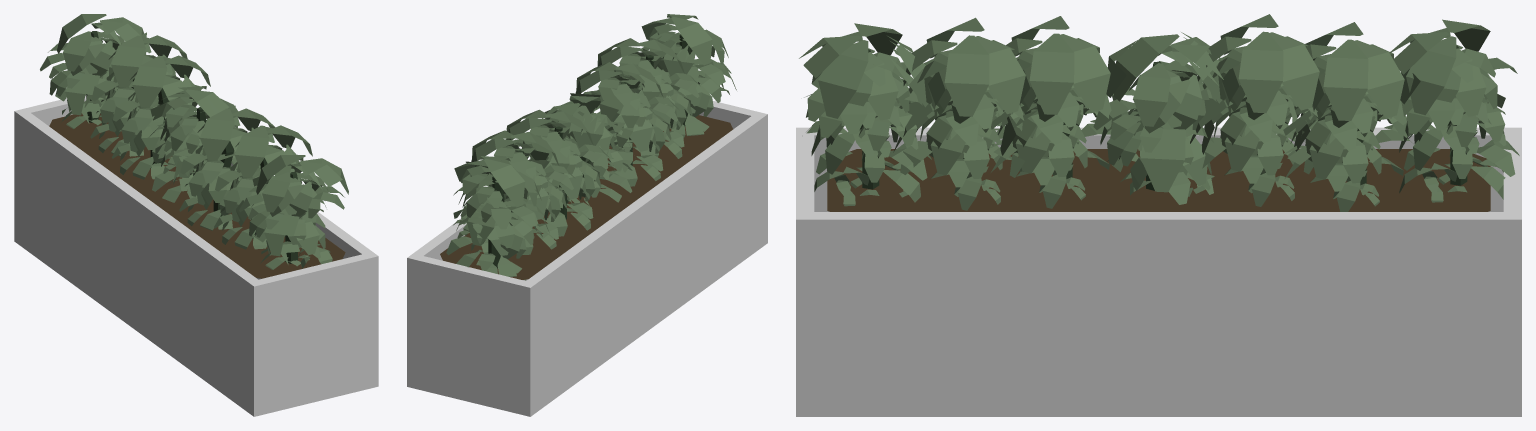
The model's file is saksi_bitkili_100x30x30.glb.
3 renders of one model, left to right at view 1: azimuth 30°, elevation 25°; view 2: azimuth 150°, elevation 25°; view 3: azimuth 270°, elevation 25°, orthographic. The views are drawn at different scales.
Visible parts, largest first — view 1: Planter_100x30x30_Straight, Plant_7_Leaves, Dirt, Plant_1_Leaves, Plant_3_Leaves, Plant_5_Leaves, Plant_6_Leaves, Plant_4_Leaves, Plant_2_Leaves; view 2: Planter_100x30x30_Straight, Plant_1_Leaves, Dirt, Plant_5_Leaves, Plant_3_Leaves, Plant_6_Leaves, Plant_7_Leaves, Plant_2_Leaves, Plant_4_Leaves; view 3: Planter_100x30x30_Straight, Dirt, Plant_6_Leaves, Plant_3_Leaves, Plant_1_Leaves, Plant_7_Leaves, Plant_4_Leaves, Plant_2_Leaves, Plant_5_Leaves.
Boxes of the visible parts, bbox=[...] form: Planter_100x30x30_Straight: bbox=[14, 95, 378, 416]; Plant_7_Leaves: bbox=[239, 155, 348, 269]; Dirt: bbox=[49, 113, 345, 278]; Plant_1_Leaves: bbox=[40, 14, 149, 128]; Plant_3_Leaves: bbox=[112, 55, 210, 184]; Plant_5_Leaves: bbox=[173, 98, 275, 230]; Plant_6_Leaves: bbox=[214, 125, 312, 249]; Plant_4_Leaves: bbox=[152, 86, 237, 202]; Plant_2_Leaves: bbox=[84, 32, 187, 156]; Planter_100x30x30_Straight: bbox=[407, 101, 767, 416]; Plant_1_Leaves: bbox=[446, 156, 549, 280]; Dirt: bbox=[440, 115, 733, 279]; Plant_5_Leaves: bbox=[570, 62, 679, 186]; Plant_3_Leaves: bbox=[506, 109, 609, 236]; Plant_6_Leaves: bbox=[597, 36, 700, 158]; Plant_7_Leaves: bbox=[641, 14, 736, 138]; Plant_2_Leaves: bbox=[466, 130, 575, 254]; Plant_4_Leaves: bbox=[541, 95, 632, 202]; Planter_100x30x30_Straight: bbox=[796, 127, 1521, 416]; Dirt: bbox=[827, 149, 1490, 211]; Plant_6_Leaves: bbox=[887, 17, 1037, 210]; Plant_3_Leaves: bbox=[1181, 14, 1331, 206]; Plant_1_Leaves: bbox=[1389, 19, 1519, 202]; Plant_7_Leaves: bbox=[799, 23, 931, 206]; Plant_4_Leaves: bbox=[1093, 34, 1223, 204]; Plant_2_Leaves: bbox=[1283, 22, 1420, 211]; Plant_5_Leaves: bbox=[990, 16, 1137, 208].
Size of the model in its own units: 0.3 by 0.5264 by 1.
